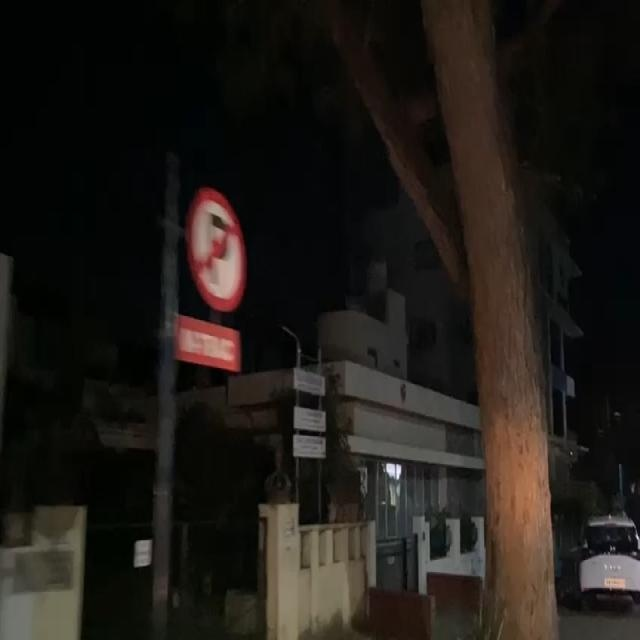bien_cam: (184, 182, 247, 311)
